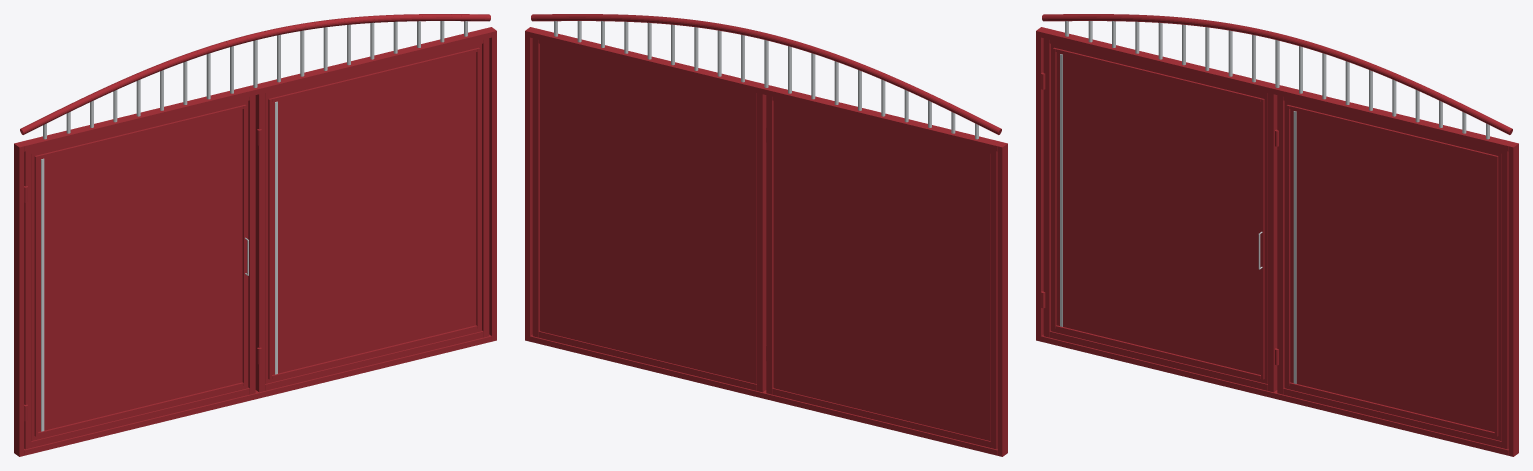
File: red-solid-privacy-gate-13.glb
The picture shows the model from 3 angles, left to right: view 1: azimuth 30°, elevation 25°; view 2: azimuth 150°, elevation 25°; view 3: azimuth 330°, elevation 25°; orthographic projection.
Visible parts, largest first — view 1: Solid red privacy leaf, Gate perimeter, Raised panel molding, Leaf frame 1, Leaf frame 0, Arched upper grille rail, Silver upper grille picket, Slim silver accent; view 2: Solid red privacy leaf, Gate perimeter, Leaf frame 1, Leaf frame 0, Arched upper grille rail, Silver upper grille picket; view 3: Solid red privacy leaf, Gate perimeter, Raised panel molding, Leaf frame 0, Leaf frame 1, Arched upper grille rail, Silver upper grille picket, Slim silver accent.
Boxes of the visible parts, x1=… form: Solid red privacy leaf: x1=31, y1=44, x2=481, y2=440; Gate perimeter: x1=14, y1=27, x2=496, y2=456; Raised panel molding: x1=34, y1=47, x2=479, y2=436; Leaf frame 1: x1=255, y1=38, x2=489, y2=392; Leaf frame 0: x1=24, y1=95, x2=255, y2=449; Arched upper grille rail: x1=20, y1=14, x2=490, y2=134; Silver upper grille picket: x1=43, y1=21, x2=467, y2=139; Slim silver accent: x1=41, y1=101, x2=277, y2=431; Solid red privacy leaf: x1=540, y1=44, x2=990, y2=440; Gate perimeter: x1=525, y1=27, x2=1007, y2=456; Leaf frame 1: x1=532, y1=38, x2=766, y2=392; Leaf frame 0: x1=766, y1=95, x2=997, y2=449; Arched upper grille rail: x1=531, y1=14, x2=1001, y2=134; Silver upper grille picket: x1=554, y1=21, x2=978, y2=139; Solid red privacy leaf: x1=1051, y1=44, x2=1501, y2=440; Gate perimeter: x1=1036, y1=27, x2=1518, y2=456; Raised panel molding: x1=1053, y1=47, x2=1498, y2=436; Leaf frame 0: x1=1043, y1=38, x2=1277, y2=392; Leaf frame 1: x1=1277, y1=95, x2=1508, y2=449; Arched upper grille rail: x1=1042, y1=14, x2=1512, y2=134; Silver upper grille picket: x1=1065, y1=21, x2=1489, y2=139; Slim silver accent: x1=1060, y1=54, x2=1296, y2=383.
Size of the model in its own units: 3.27 by 2.38 by 0.1005.
